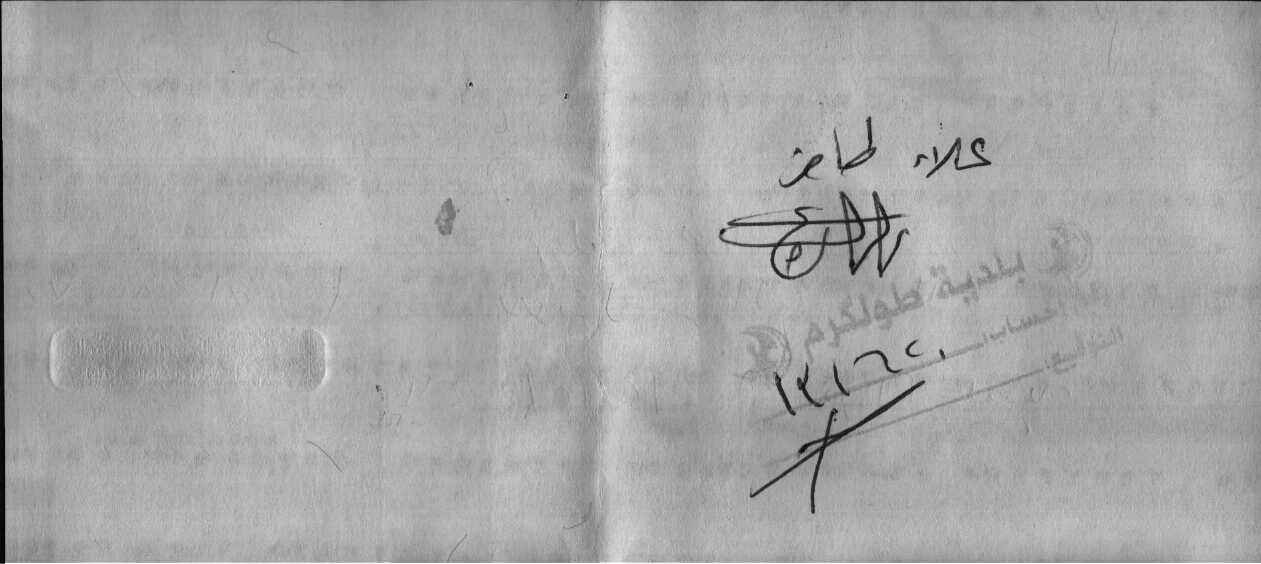stamp: (736, 213, 1131, 471)
